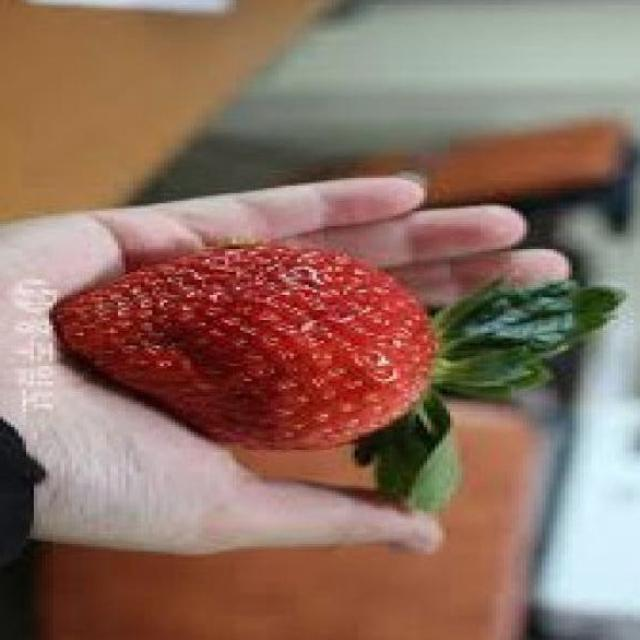Healthy Fruit: (49, 241, 440, 452)
